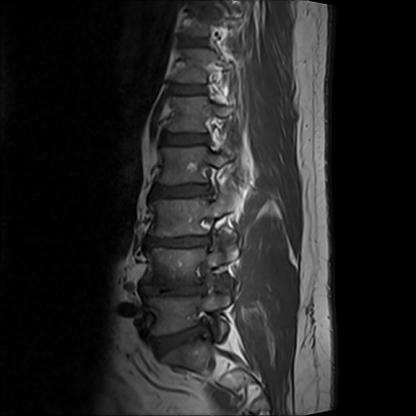Disc Bulgerotation: (136, 224, 245, 274), (143, 318, 238, 354)
